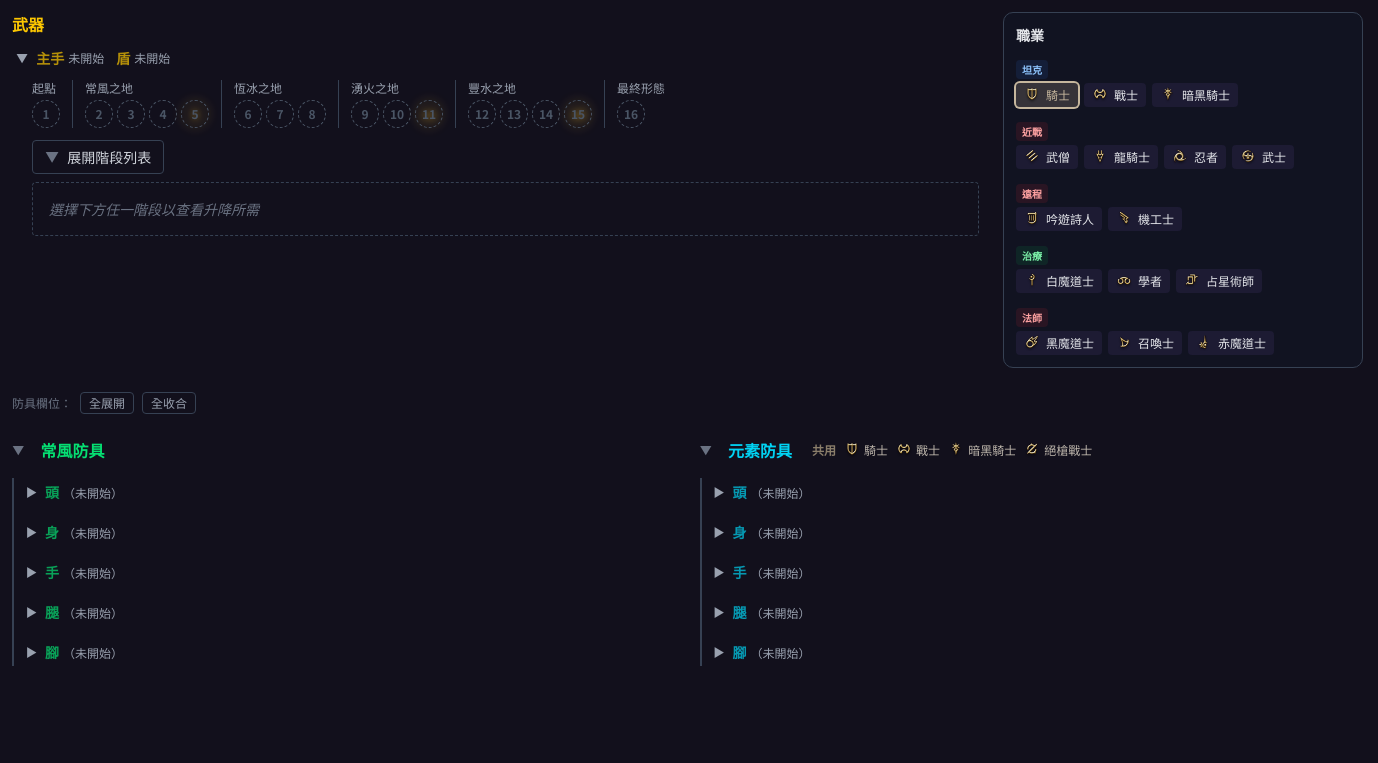
Test: DetailTab › armor accordion › two tracks maintain independent accordion state
Note: Expand 身 in 常風 (first track) only.
Click the 1st button "▶ 身（未開始）" at (93,532), box [22,518,676,546]
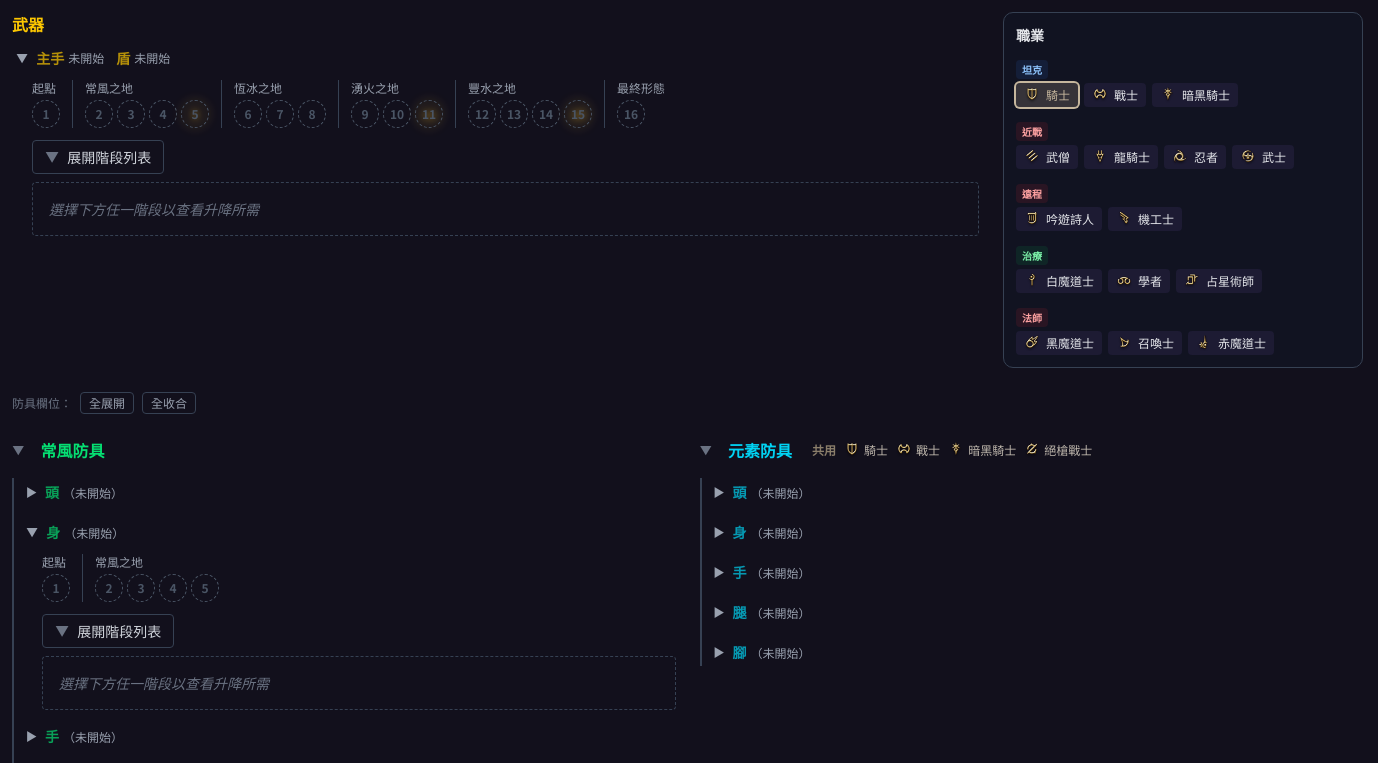
expect the button "▼ 身（未開始）" is expanded: met, box [22,518,676,546]
Note: Now expand 頭 in 元素 (second track) only.
Click the 2nd button "▶ 頭（未開始）" at (781,492), box [710,478,1363,506]
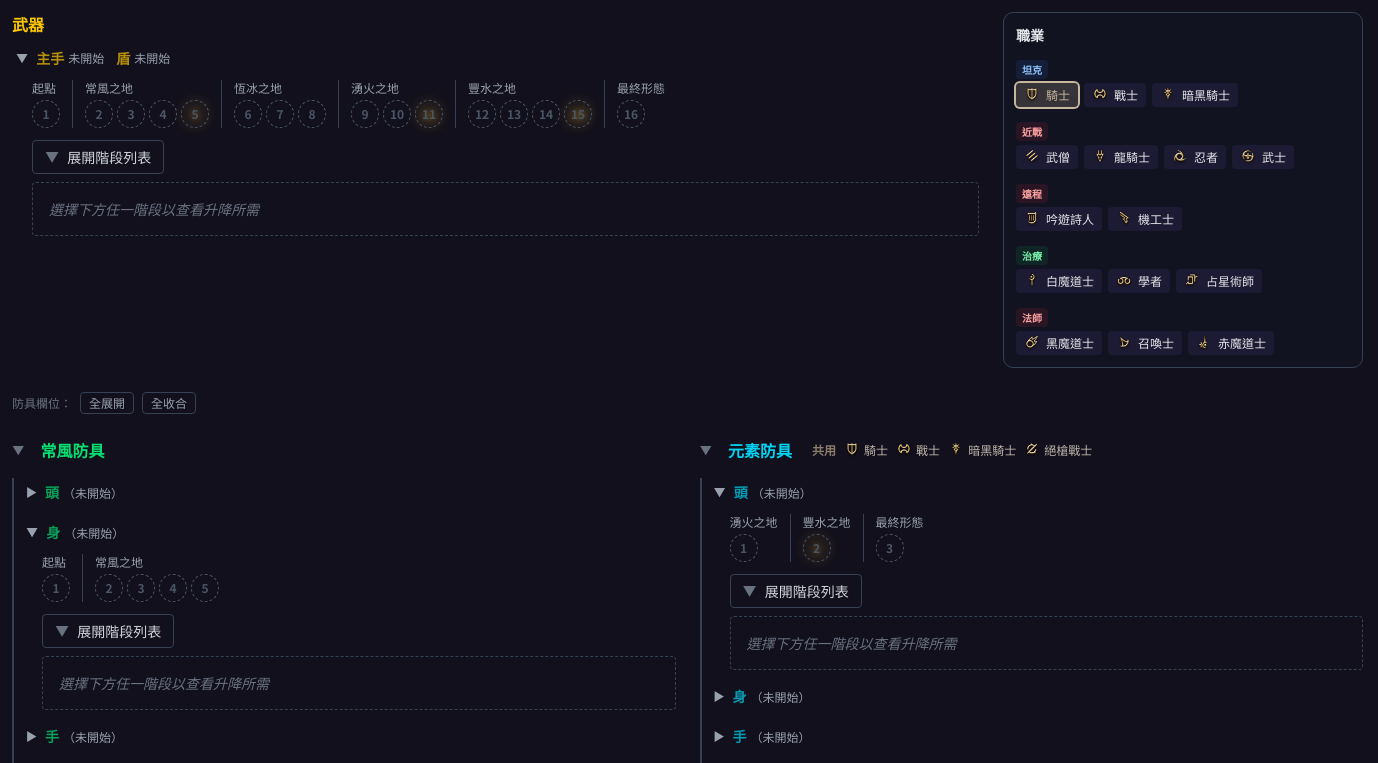
expect the button "▼ 頭（未開始）" is expanded: met, box [710,478,1363,506]
